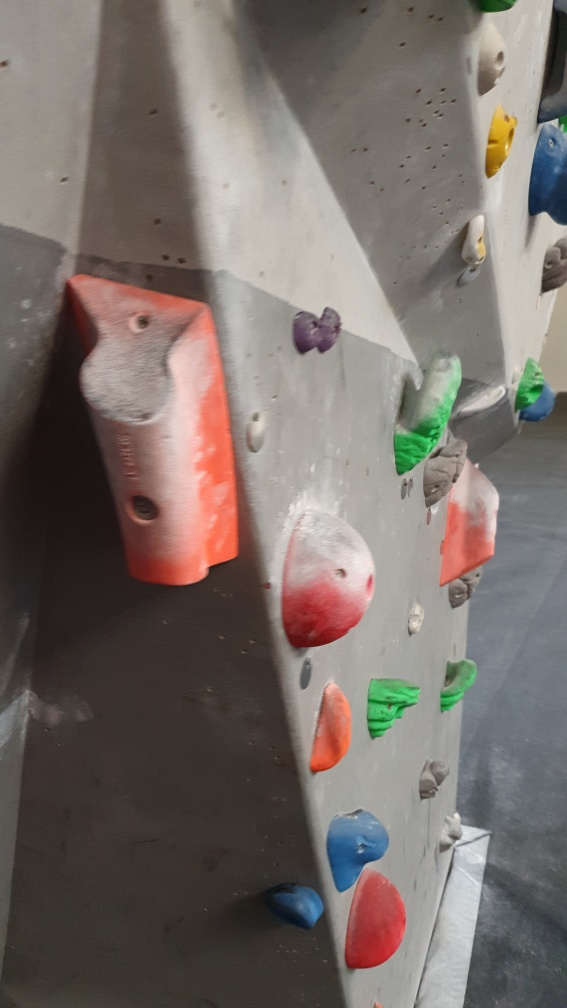Hand Start: (241, 405, 266, 457), (293, 657, 316, 693)
Jug: (392, 345, 463, 472), (367, 672, 422, 743), (438, 658, 481, 710)
Pinch: (60, 267, 243, 589)
Sloper: (278, 507, 374, 648), (343, 868, 408, 974)
